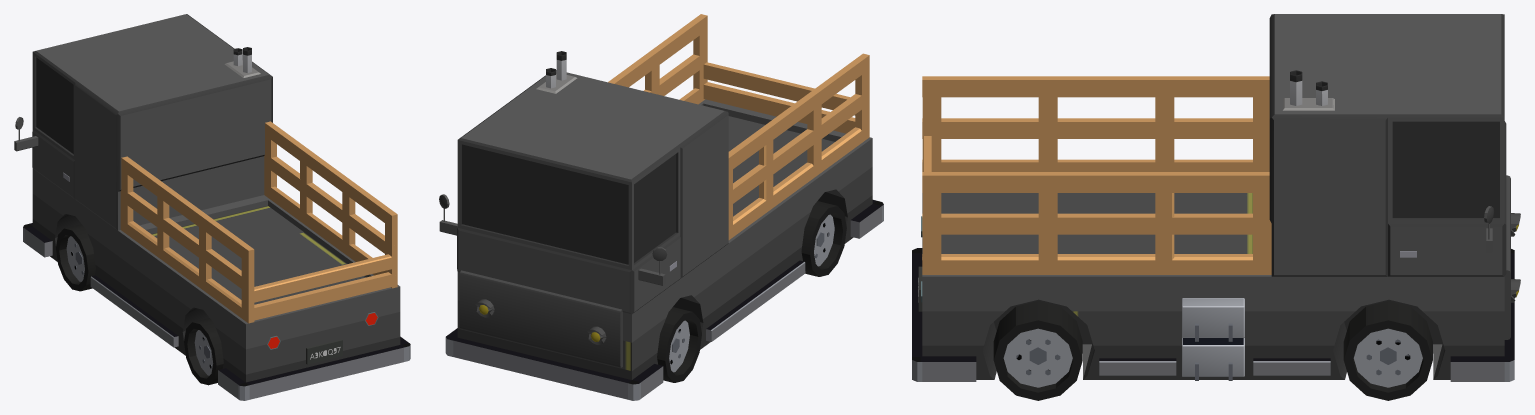
File: Truck_Gray.fbx
3 views of the same model, side by side, from view 1: azimuth 30°, elevation 25°; view 2: azimuth 150°, elevation 25°; view 3: azimuth 270°, elevation 25° (orthographic). The views are drawn at different scales.
Parts seen in each view (by area): view 1: Truck.140, Truck.132, Truck.180, Truck.181, Truck.172, Truck.171, Truck.173, Truck.125, Truck.126, Truck.174, Truck.175, Truck.182 (+11 smaller); view 2: Truck.140, Truck.164, Truck.133, Truck.126, Truck.173, Truck.125, Truck.174, Truck.175, Truck.171, Truck.180, Truck.172, Truck.129 (+9 smaller); view 3: Truck.140, Truck.173, Truck.127, Truck.128, Truck.174, Truck.180, Truck.181, Truck.182, Truck.175, Truck.132, Truck.137, Truck.134 (+14 smaller).
Boxes of the visible parts, bbox=[...] form: Truck.140: bbox=[32, 14, 400, 382]; Truck.132: bbox=[218, 336, 410, 400]; Truck.180: bbox=[265, 121, 397, 228]; Truck.181: bbox=[264, 154, 397, 258]; Truck.172: bbox=[254, 272, 391, 320]; Truck.171: bbox=[254, 254, 391, 302]; Truck.173: bbox=[121, 156, 254, 262]; Truck.125: bbox=[56, 224, 95, 291]; Truck.126: bbox=[184, 318, 223, 385]; Truck.174: bbox=[127, 191, 254, 293]; Truck.175: bbox=[127, 221, 254, 323]; Truck.182: bbox=[264, 183, 397, 288]; Truck.140: bbox=[457, 70, 872, 379]; Truck.164: bbox=[459, 270, 622, 367]; Truck.133: bbox=[445, 328, 663, 400]; Truck.126: bbox=[801, 201, 846, 276]; Truck.173: bbox=[728, 53, 869, 168]; Truck.125: bbox=[657, 307, 701, 382]; Truck.174: bbox=[733, 94, 861, 203]; Truck.175: bbox=[733, 127, 861, 236]; Truck.171: bbox=[703, 62, 855, 115]; Truck.180: bbox=[608, 14, 707, 87]; Truck.172: bbox=[703, 82, 855, 133]; Truck.129: bbox=[706, 260, 805, 341]; Truck.140: bbox=[922, 14, 1506, 379]; Truck.173: bbox=[922, 76, 1269, 97]; Truck.127: bbox=[993, 301, 1082, 400]; Truck.128: bbox=[1343, 301, 1432, 400]; Truck.174: bbox=[922, 118, 1269, 138]; Truck.180: bbox=[922, 172, 1269, 192]; Truck.181: bbox=[922, 213, 1252, 234]; Truck.182: bbox=[922, 254, 1252, 274]; Truck.175: bbox=[922, 159, 1269, 171]; Truck.132: bbox=[912, 248, 976, 381]; Truck.137: bbox=[1182, 298, 1244, 337]; Truck.134: bbox=[1182, 337, 1244, 376].
Size of the model in its own units: 825 by 902 by 1579.
1 material, 1 textured.
